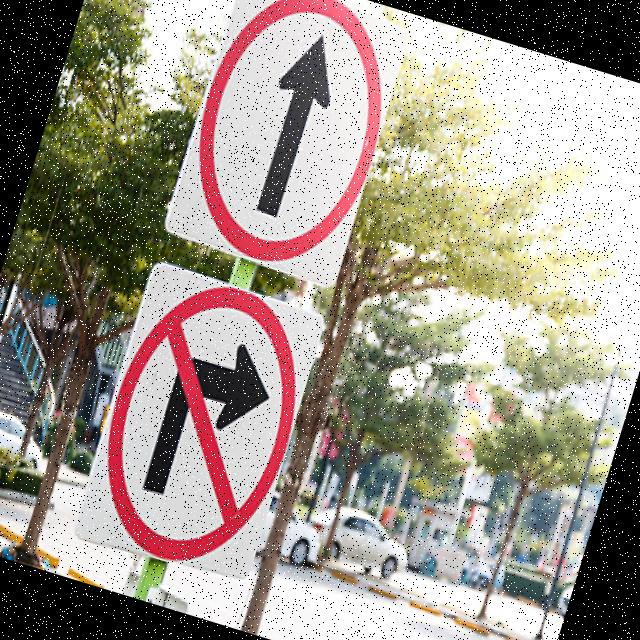do_not_turn_right: (74, 263, 329, 589)
